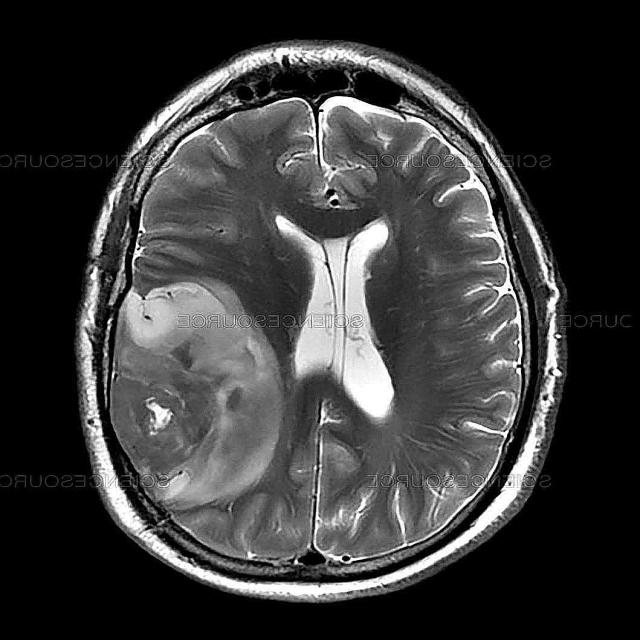Tumor-Cell: (122, 290, 307, 518)
